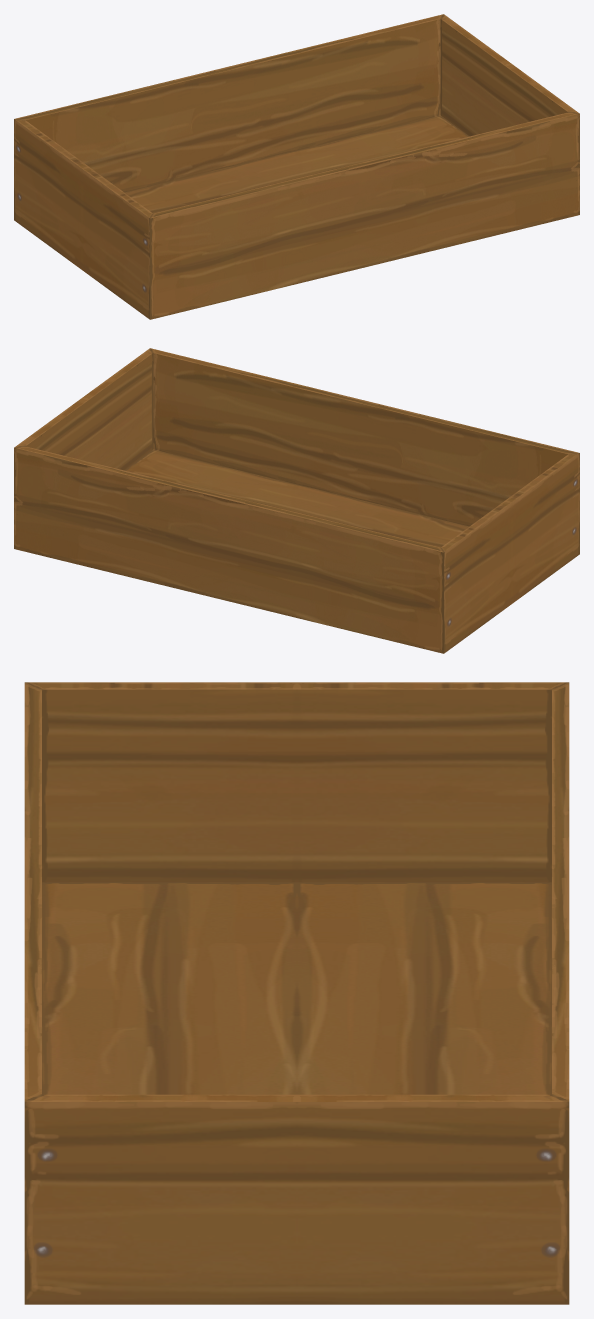
Rendered from box_rectangular.gltf.
The picture shows the model from 3 angles, top to bottom: view 1: azimuth 30°, elevation 25°; view 2: azimuth 150°, elevation 25°; view 3: azimuth 270°, elevation 25°; orthographic projection. The views are drawn at different scales.
Parts seen in each view (by area): view 1: fruis_and_vegetables.018; view 2: fruis_and_vegetables.018; view 3: fruis_and_vegetables.018.
Boxes of the visible parts, x1,y1,x2,y2 form: fruis_and_vegetables.018: [14, 14, 579, 319]; fruis_and_vegetables.018: [14, 348, 579, 653]; fruis_and_vegetables.018: [24, 682, 569, 1304].
Size of the model in its own units: 1.22 by 0.275 by 0.6697.
Materials: 1 (1 with a texture image).
